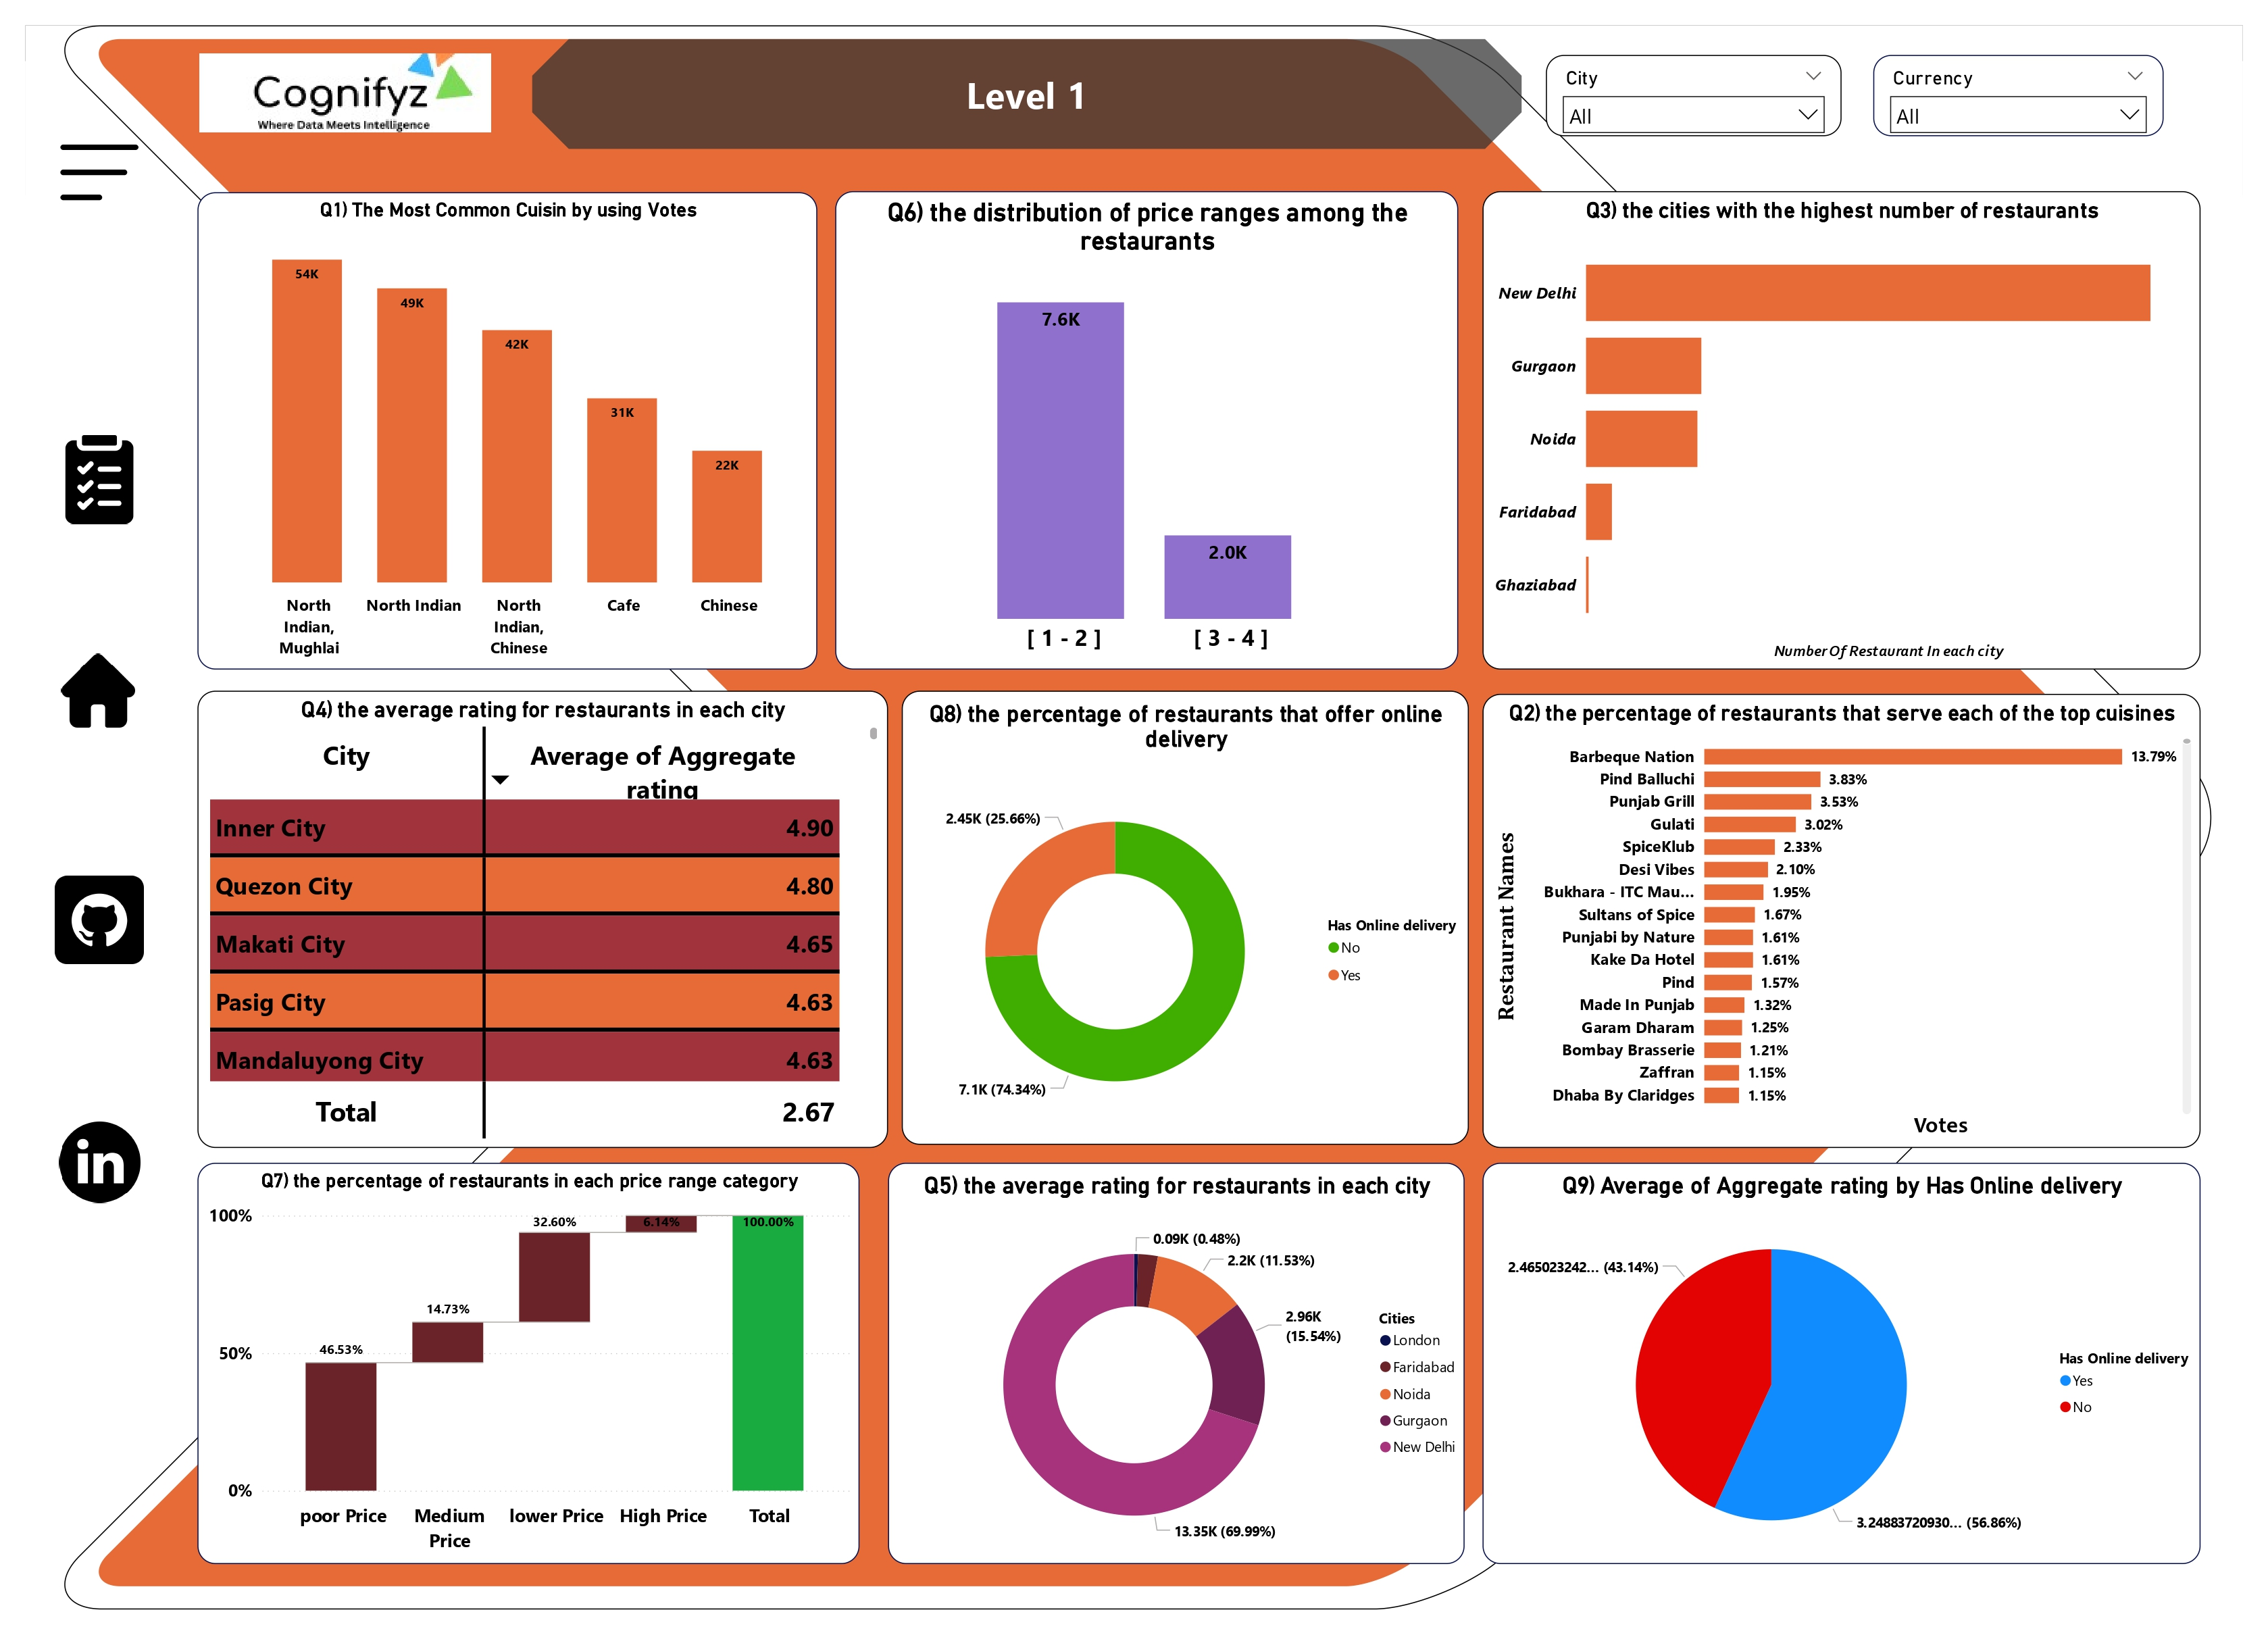

This screenshot's page, from the dashboard's own definition file:
{"tool":"powerbi","page":{"name":"Level 1","canvas":[2100,1500],"ordinal":2},"visuals":[{"type":"shape","box":[0,0,2100,1500],"z":0},{"type":"image","box":[16.7,590,103.3,80],"z":1000},{"type":"image","box":[23.3,383.3,93.3,93.3],"z":2000},{"type":"shape","box":[47.5,12.5,1977.5,1465],"z":3000},{"type":"shape","box":[480,13.3,936.7,103.3],"z":6000},{"type":"columnChart","title":"Q1) The Most Common Cuisin by using Votes","fields":{"Category":["Dataset.Cuisines"],"Y":["Sum(Dataset.Votes)"]},"box":[162.5,157.5,587.5,452.5],"z":7000},{"type":"clusteredBarChart","title":"Q2) the percentage of restaurants that serve each of the top cuisines","fields":{"Category":["Dataset.Restaurant Name"],"Y":["Sum(Dataset.Votes)"]},"box":[1380,633.3,680,430],"z":8000},{"type":"barChart","title":"Q3) the cities with the highest number of restaurants ","fields":{"Category":["Dataset.City"],"Y":["CountNonNull(Dataset.Restaurant Name)"]},"box":[1380,156.7,680,453.3],"z":9000},{"type":"tableEx","title":"Q4) the average rating for restaurants in each city","fields":{"Values":["Dataset.City","Avg(Dataset.Aggregate rating)"]},"box":[163.3,630,653.3,433.3],"z":10000},{"type":"donutChart","title":"Q5) the average rating for restaurants in each city","fields":{"Category":["Dataset.City"],"Y":["Sum(Dataset.Aggregate rating)"]},"box":[816.7,1076.7,546.7,380],"z":11000},{"type":"columnChart","title":"Q6) the distribution of price ranges among the restaurants  ","fields":{"Category":["Dataset.Price Range Intervals"],"Y":["CountNonNull(Dataset.Restaurant Name)"]},"box":[766.7,156.7,590,453.3],"z":12000},{"type":"waterfallChart","title":"Q7) the percentage of restaurants in each price range category ","fields":{"Category":["Dataset.Price Range Levels"],"Y":["Divide(CountNonNull(Dataset.Restaurant Name), ScopedEval(CountNonNull(Dataset.Restaurant Name), []))"]},"box":[163.3,1076.7,626.7,380],"z":13000},{"type":"pieChart","title":"Q9) Average of Aggregate rating by Has Online delivery","fields":{"Category":["Dataset.Has Online delivery"],"Y":["Avg(Dataset.Aggregate rating)"]},"box":[1380,1076.7,680,380],"z":14000},{"type":"slicer","fields":{"Values":["Dataset.Currency"]},"box":[1750,27.5,275,77.5],"z":15000},{"type":"slicer","fields":{"Values":["Dataset.City"]},"box":[1440,27.5,280,77.5],"z":16000},{"type":"image","box":[23.3,90,93.3,96.7],"z":17000},{"type":"image","box":[23.3,783.3,93.3,126.7],"z":18000},{"type":"image","box":[23.3,1033.3,93.3,86.7],"z":19000},{"type":"donutChart","title":"Q8) the percentage of restaurants that offer online delivery","fields":{"Category":["Dataset.Has Online delivery"],"Y":["CountNonNull(Dataset.Restaurant Name)"]},"box":[830,630,536.7,430],"z":20000}]}

Visuals, with their boxes on the page's 2100x1500 design canvas (x1, y1, x2, y2). These are canvas units, not pixel positions in the 2268x1635 screenshot, which may show the page scaled, cropped or inside an application window:
shape: (0, 0, 2100, 1500)
image: (17, 590, 120, 670)
image: (23, 383, 117, 477)
shape: (48, 12, 2025, 1478)
shape: (480, 13, 1417, 117)
"Q1) The Most Common Cuisin by using Votes" columnChart: (162, 158, 750, 610)
"Q2) the percentage of restaurants that serve each of the top cuisines" clusteredBarChart: (1380, 633, 2060, 1063)
"Q3) the cities with the highest number of restaurants " barChart: (1380, 157, 2060, 610)
"Q4) the average rating for restaurants in each city" tableEx: (163, 630, 817, 1063)
"Q5) the average rating for restaurants in each city" donutChart: (817, 1077, 1363, 1457)
"Q6) the distribution of price ranges among the restaurants  " columnChart: (767, 157, 1357, 610)
"Q7) the percentage of restaurants in each price range category " waterfallChart: (163, 1077, 790, 1457)
"Q9) Average of Aggregate rating by Has Online delivery" pieChart: (1380, 1077, 2060, 1457)
slicer - Dataset.Currency: (1750, 28, 2025, 105)
slicer - Dataset.City: (1440, 28, 1720, 105)
image: (23, 90, 117, 187)
image: (23, 783, 117, 910)
image: (23, 1033, 117, 1120)
"Q8) the percentage of restaurants that offer online delivery" donutChart: (830, 630, 1367, 1060)
